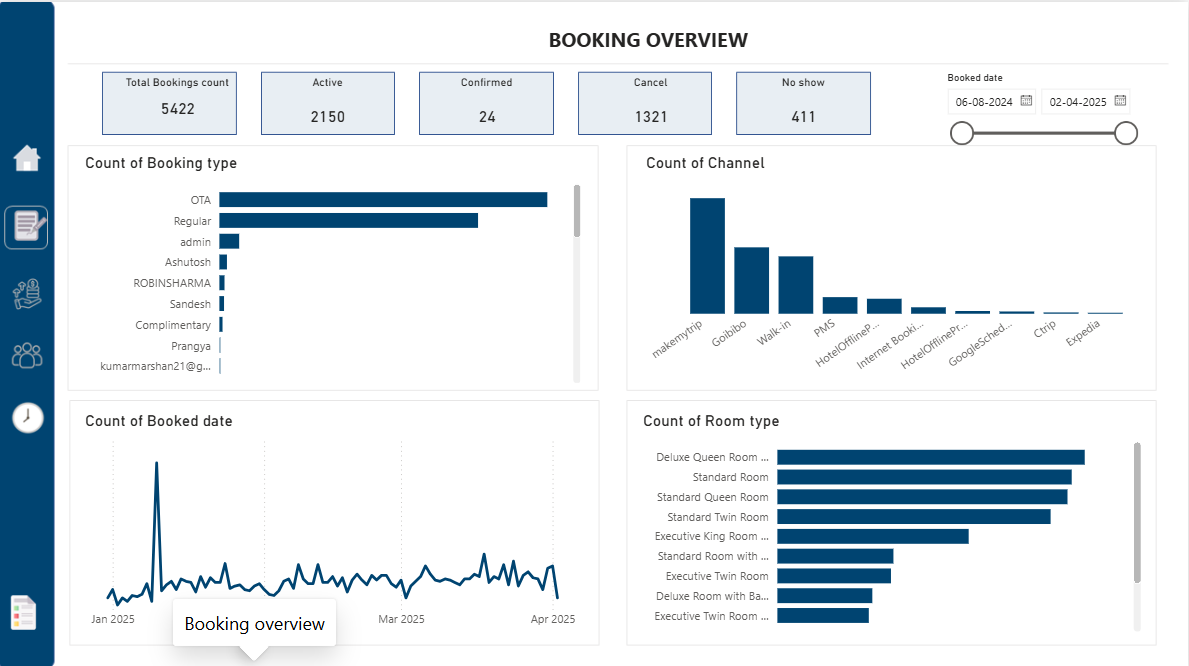

Layout of this report page (visuals, bound fields, positions):
{"tool":"powerbi","page":{"name":"Booking overview","canvas":[1280,720],"ordinal":1},"visuals":[{"type":"card","title":"Total  Bookings count","fields":{"Values":["CountNonNull(Raw data.Channel booking ID)"]},"box":[115.6,79.4,153.5,57.8],"z":0},{"type":"card","title":"No show","fields":{"Values":["CountNonNull(Raw data.Channel booking ID)"]},"box":[809.1,79.4,113,75],"z":1000},{"type":"card","title":"Active","fields":{"Values":["CountNonNull(Raw data.Channel booking ID)"]},"box":[304.5,79.4,99.2,75],"z":2000},{"type":"card","title":"Cancel","fields":{"Values":["CountNonNull(Raw data.Channel booking ID)"]},"box":[646.9,79.4,110.4,75],"z":3000},{"type":"card","title":"Confirmed","fields":{"Values":["CountNonNull(Raw data.Channel booking ID)"]},"box":[471.8,79.4,106.1,75],"z":4000},{"type":"columnChart","title":"Count of Channel","fields":{"Category":["Raw data.Channel"],"Y":["CountNonNull(Raw data.Channel booking ID)"]},"box":[691.8,163,541.7,245],"z":5000},{"type":"barChart","title":"Count of Booking type","fields":{"Y":["CountNonNull(Raw data.Channel booking ID)"],"Category":["Raw data.Booking type"]},"box":[88.8,163,542.5,251.9],"z":6000},{"type":"slicer","fields":{"Values":["Raw data.Booked date"]},"box":[1007.4,69,226,85.4],"z":7000},{"type":"lineChart","title":"Count of Booked date","fields":{"Y":["CountNonNull(Raw data.Channel booking ID)"],"Category":["Raw data.Booked date.Variation.Date Hierarchy.Year"]},"box":[88.8,440.8,542.5,241.5],"z":8000},{"type":"clusteredBarChart","title":"Count of Room type","fields":{"Y":["CountNonNull(Raw data.Channel booking ID)"],"Category":["Raw data.Room type"]},"box":[688.3,440.8,545.1,241.5],"z":9000},{"type":"actionButton","box":[11.7,431.9,41.8,39.9],"z":10000},{"type":"actionButton","box":[11.7,292.8,41.8,39.9],"z":12000},{"type":"actionButton","box":[11.7,358.9,41.8,39.9],"z":13000},{"type":"actionButton","box":[12.6,154.7,40.9,39.9],"z":14000},{"type":"actionButton","box":[12.6,637.1,41.8,39.9],"z":15000},{"type":"textbox","box":[354,19.5,688.6,39.9],"z":16000}]}

Visuals, with their boxes on the page's 1280x720 design canvas (x1, y1, x2, y2). These are canvas units, not pixel positions in the 1189x666 screenshot, which may show the page scaled, cropped or inside an application window:
"Total  Bookings count" card: detection(116, 79, 269, 137)
"No show" card: detection(809, 79, 922, 154)
"Active" card: detection(304, 79, 404, 154)
"Cancel" card: detection(647, 79, 757, 154)
"Confirmed" card: detection(472, 79, 578, 154)
"Count of Channel" columnChart: detection(692, 163, 1234, 408)
"Count of Booking type" barChart: detection(89, 163, 631, 415)
slicer - Raw data.Booked date: detection(1007, 69, 1233, 154)
"Count of Booked date" lineChart: detection(89, 441, 631, 682)
"Count of Room type" clusteredBarChart: detection(688, 441, 1233, 682)
actionButton: detection(12, 432, 54, 472)
actionButton: detection(12, 293, 54, 333)
actionButton: detection(12, 359, 54, 399)
actionButton: detection(13, 155, 54, 195)
actionButton: detection(13, 637, 54, 677)
textbox: detection(354, 20, 1043, 59)
